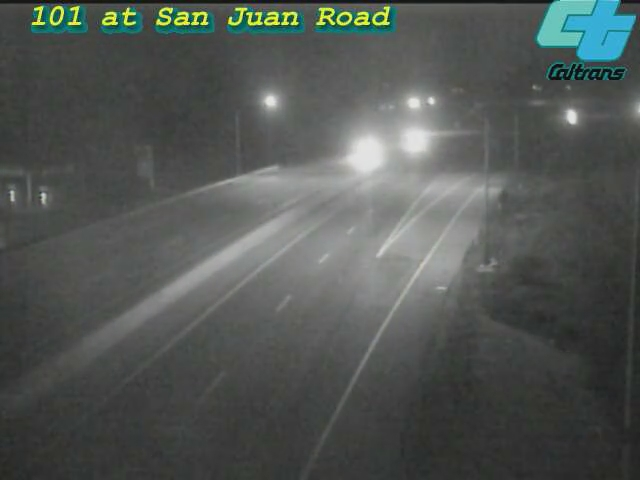vehicle: (336, 126, 386, 176), (385, 116, 435, 166), (546, 91, 596, 141)
